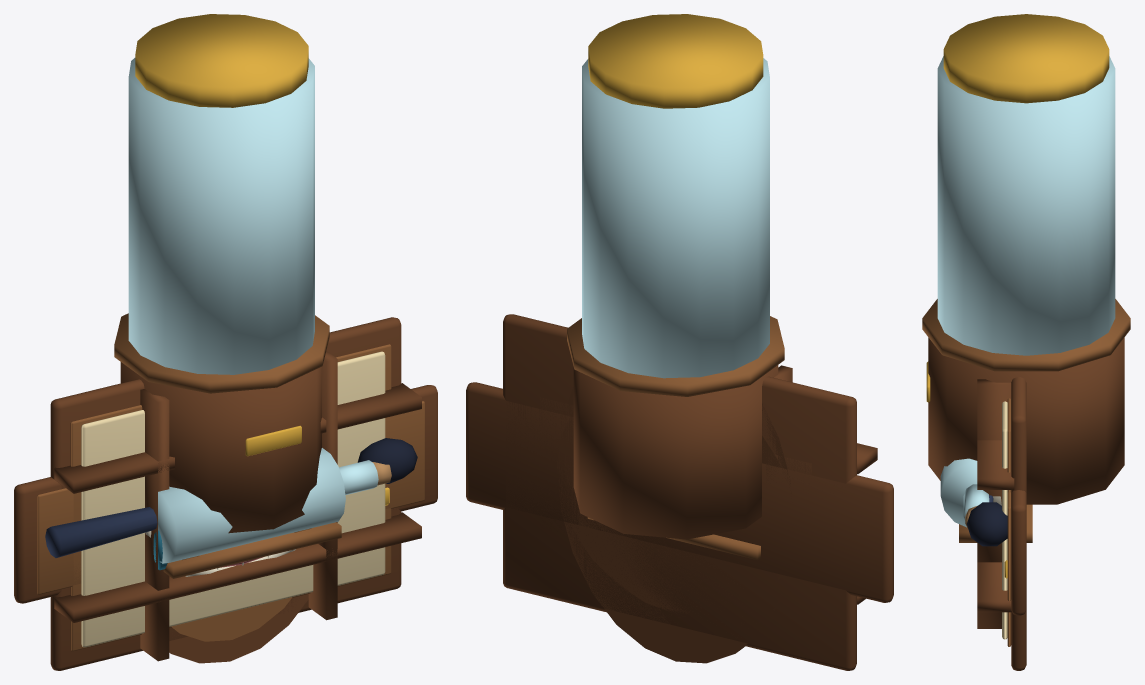
File: oceandecor.glb
3 views of the same model, side by side, from view 1: azimuth 30°, elevation 25°; view 2: azimuth 150°, elevation 25°; view 3: azimuth 270°, elevation 25° (orthographic). The views are drawn at different scales.
Parts seen in each view (by area): view 1: decor_ow_squid, decor_ow_shells, decor_ow_bill, decor_ow_bottle, decor_ow_cup; view 2: decor_ow_squid, decor_ow_shells, decor_ow_bill, decor_ow_cup, decor_ow_jaw, decor_ow_bottle; view 3: decor_ow_squid, decor_ow_shells, decor_ow_bill, decor_ow_bottle, decor_ow_cup.
Boxes of the visible parts, left/top/right/bottom form: decor_ow_squid: left=114, top=14, right=329, bottom=533; decor_ow_shells: left=50, top=317, right=421, bottom=670; decor_ow_bill: left=14, top=385, right=437, bottom=603; decor_ow_bottle: left=153, top=448, right=391, bottom=570; decor_ow_cup: left=163, top=522, right=341, bottom=663; decor_ow_squid: left=567, top=14, right=784, bottom=539; decor_ow_shells: left=503, top=314, right=877, bottom=670; decor_ow_bill: left=466, top=382, right=893, bottom=602; decor_ow_cup: left=557, top=387, right=791, bottom=663; decor_ow_jaw: left=557, top=412, right=780, bottom=613; decor_ow_bottle: left=540, top=397, right=811, bottom=531; decor_ow_squid: left=922, top=14, right=1130, bottom=504; decor_ow_shells: left=977, top=377, right=1026, bottom=670; decor_ow_bill: left=967, top=490, right=1026, bottom=615; decor_ow_bottle: left=940, top=458, right=989, bottom=530; decor_ow_cup: left=959, top=504, right=1032, bottom=542.
Bounding box in the file's own units: 1.5 × 2.06 × 0.68.
